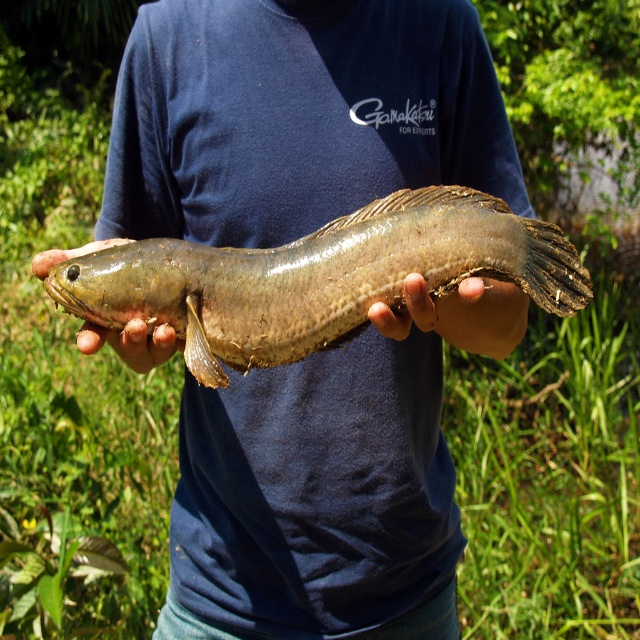Fish: (42, 185, 593, 390)
